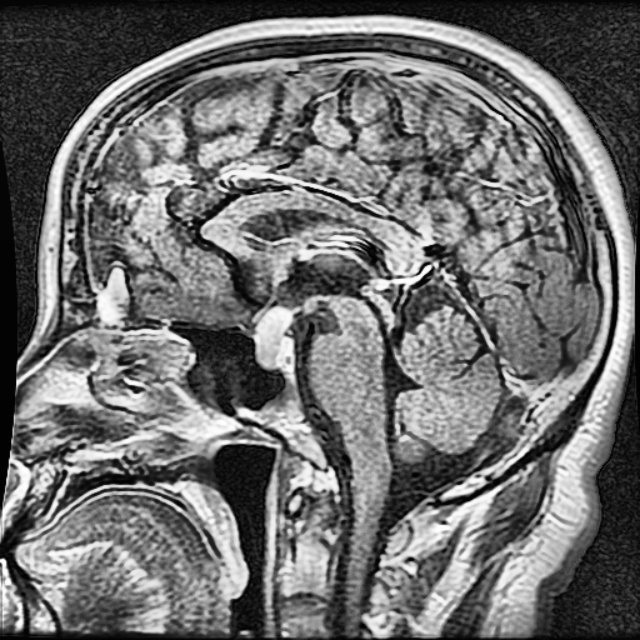Pituitary: (254, 307, 292, 367)
